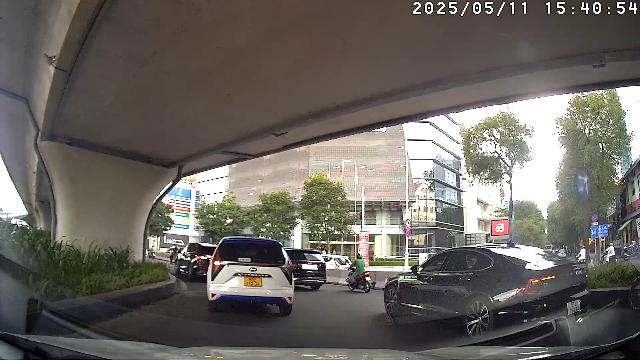301c-cac-xe-chi-duoc-re-trai: (575, 169, 593, 199)
